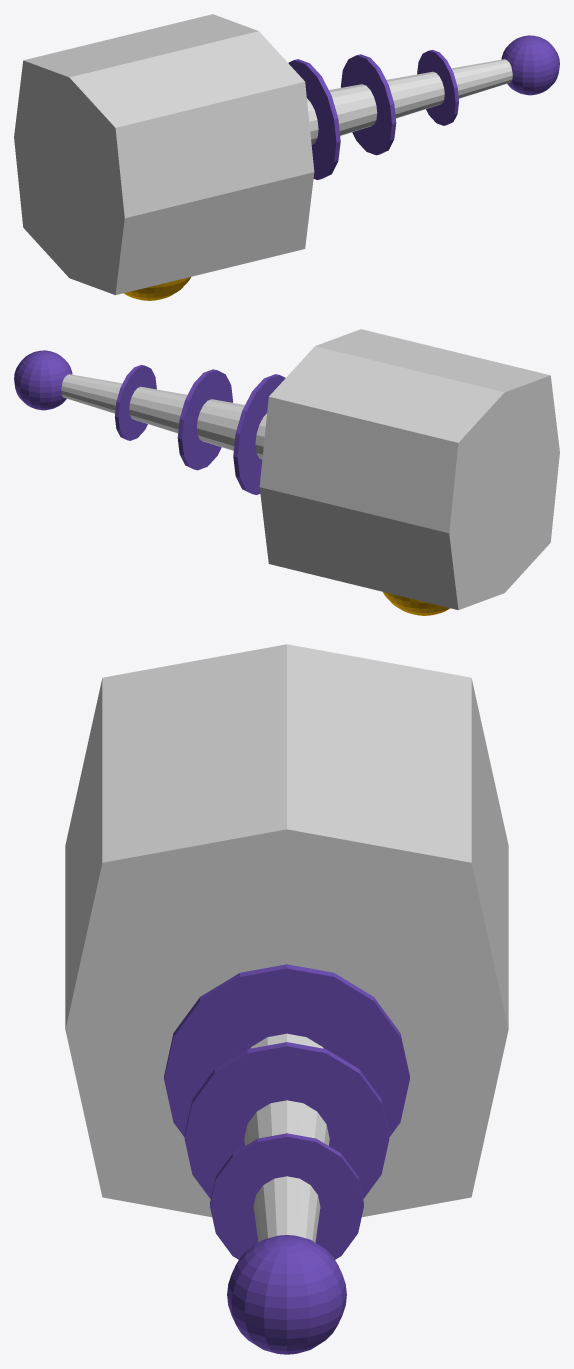
File: LazorBlaster 1.fbx
3 views of the same model, one above another, from view 1: azimuth 30°, elevation 25°; view 2: azimuth 150°, elevation 25°; view 3: azimuth 270°, elevation 25° (orthographic). The views are drawn at different scales.
Parts seen in each view (by area): view 1: Lazorblaster; view 2: Lazorblaster; view 3: Lazorblaster.
Boxes of the visible parts, x1=… form: Lazorblaster: x1=14, y1=14, x2=559, y2=300; Lazorblaster: x1=14, y1=329, x2=559, y2=615; Lazorblaster: x1=65, y1=644, x2=508, y2=1354.
Size of the model in its own units: 1875 by 877 by 739.
